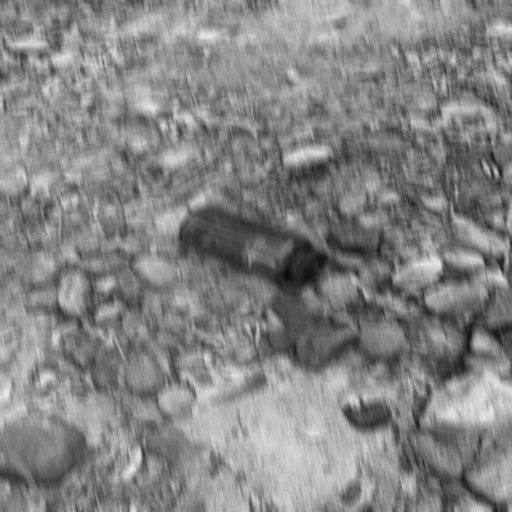bottle: (179, 206, 329, 291)
